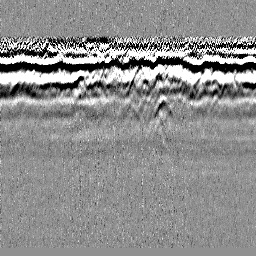cavity: (117, 97, 140, 122)
